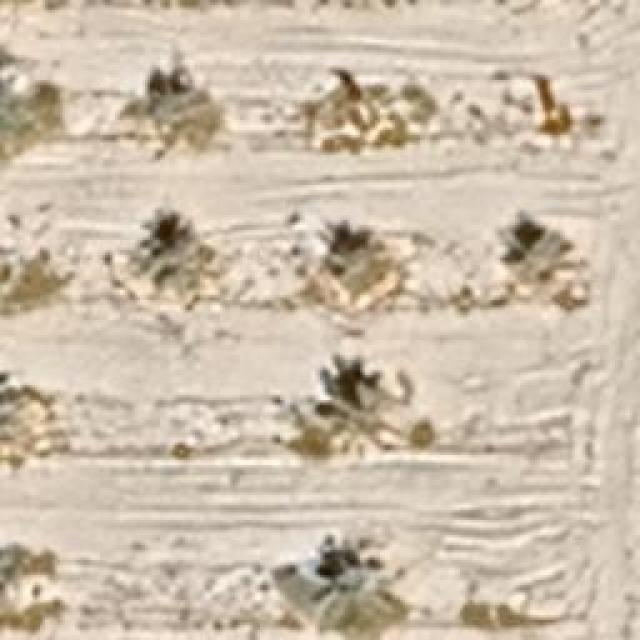PalmTree: (312, 228, 402, 314), (285, 551, 390, 621), (310, 382, 408, 456), (136, 208, 214, 298), (502, 225, 580, 295), (0, 365, 41, 460), (30, 88, 181, 112)
